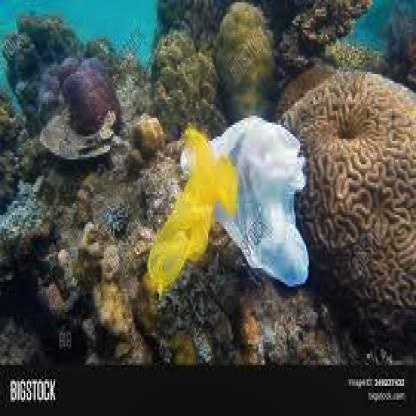pbag: (206, 111, 315, 289), (141, 120, 242, 296)
